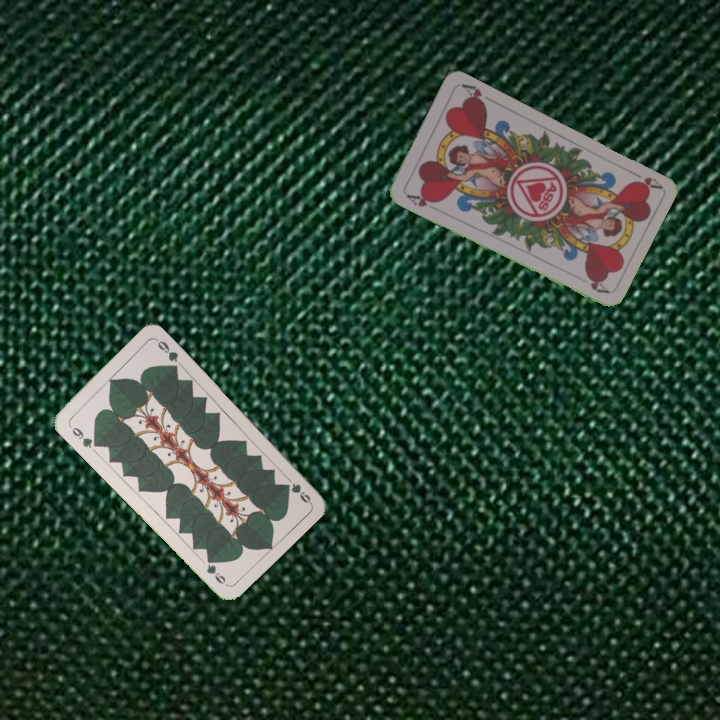G9: (65, 420, 100, 451), (283, 479, 313, 506)
HA: (625, 166, 663, 192), (402, 190, 441, 213)
